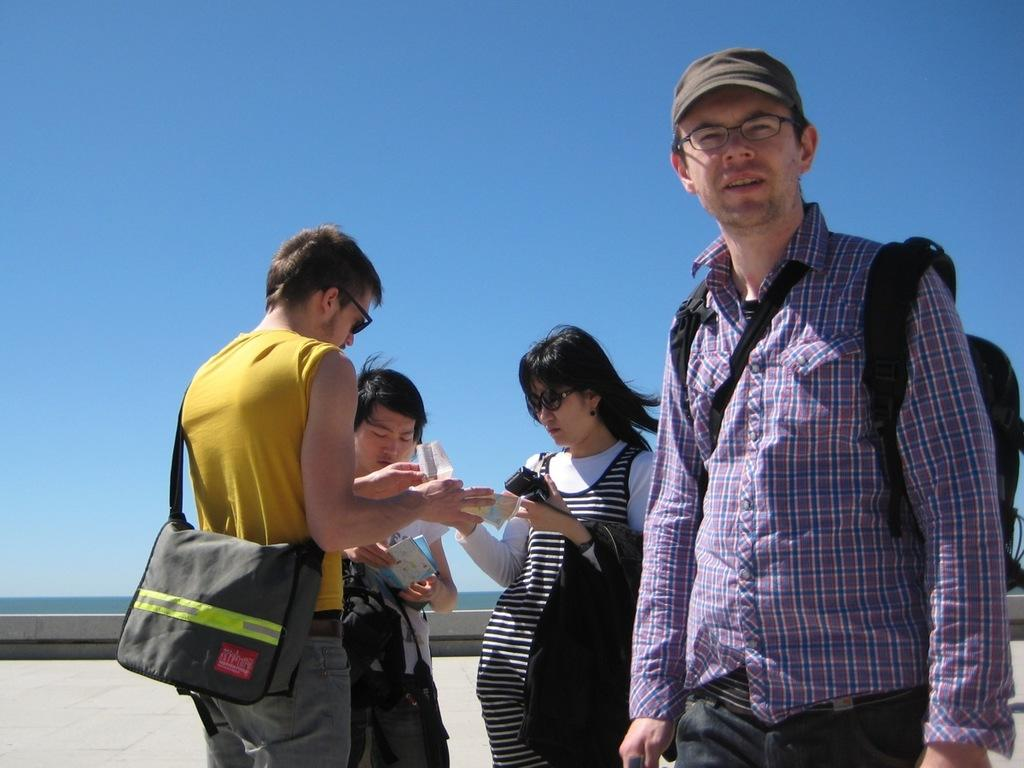Luggage-and-bags: (661, 234, 1023, 597), (113, 432, 325, 730), (338, 550, 468, 767)
